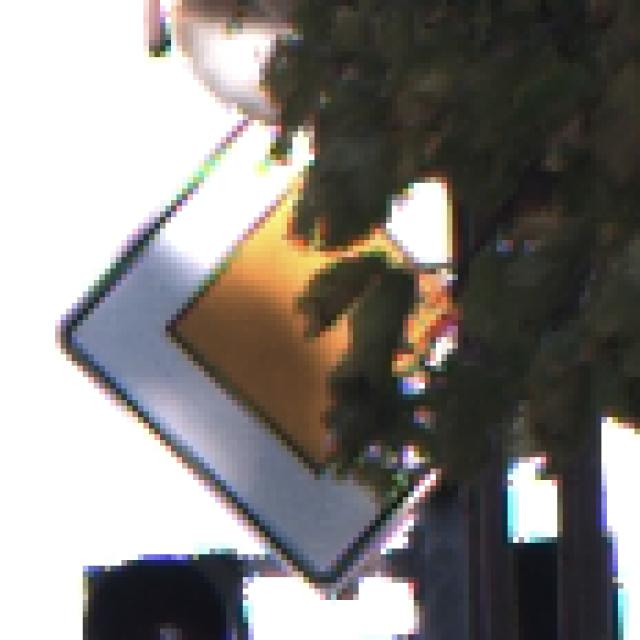Main Road: (56, 58, 586, 590)
